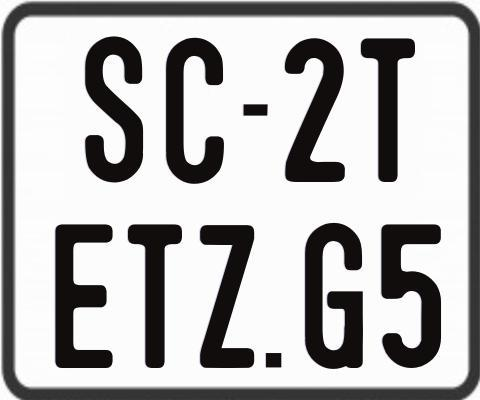2: (283, 36, 345, 186)
5: (379, 222, 442, 369)
C: (166, 36, 225, 186)
E: (54, 222, 114, 369)
G: (305, 223, 367, 375)
S: (84, 34, 146, 180)
T: (358, 37, 418, 187), (127, 224, 182, 372)
Z: (198, 222, 257, 368)
